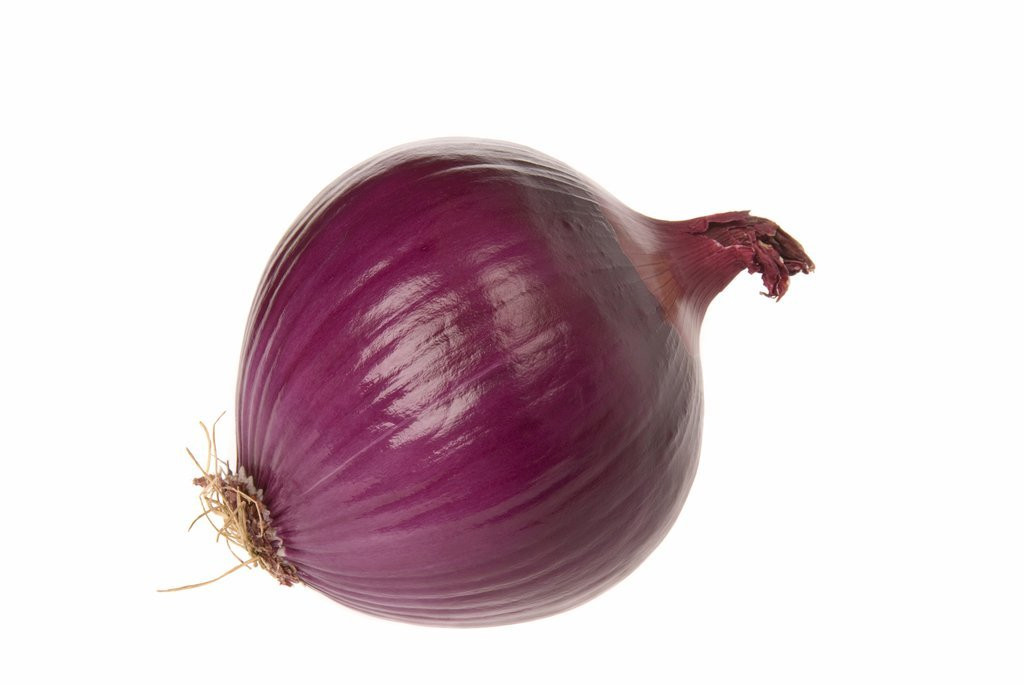onion: (188, 130, 818, 632)
